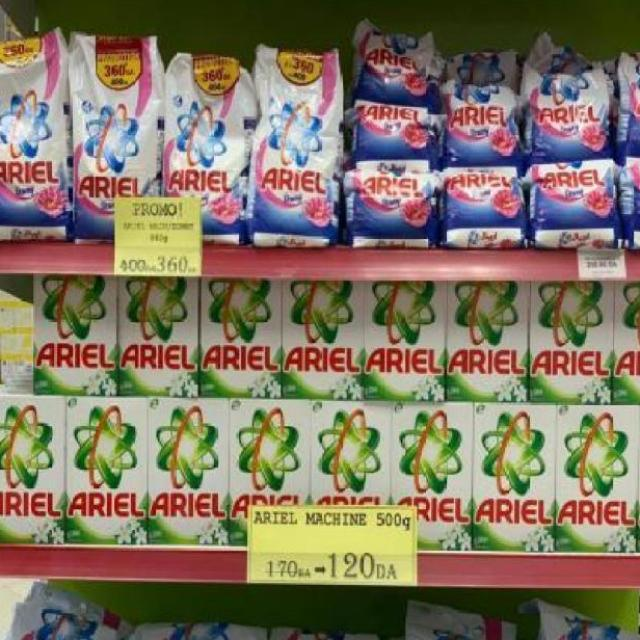Detergent: (65, 30, 165, 236), (248, 39, 341, 246), (161, 50, 250, 242), (0, 26, 66, 233), (553, 400, 639, 557), (142, 394, 229, 547), (64, 393, 148, 546), (521, 33, 618, 161), (393, 400, 474, 553), (475, 404, 555, 554), (0, 390, 69, 546), (362, 278, 446, 403), (278, 276, 363, 399), (441, 50, 525, 173), (448, 274, 529, 401), (31, 275, 116, 395), (113, 274, 198, 394), (198, 278, 283, 398), (351, 19, 447, 106), (526, 160, 620, 248), (349, 168, 442, 251), (444, 168, 528, 255), (349, 102, 444, 169), (610, 275, 640, 398)
